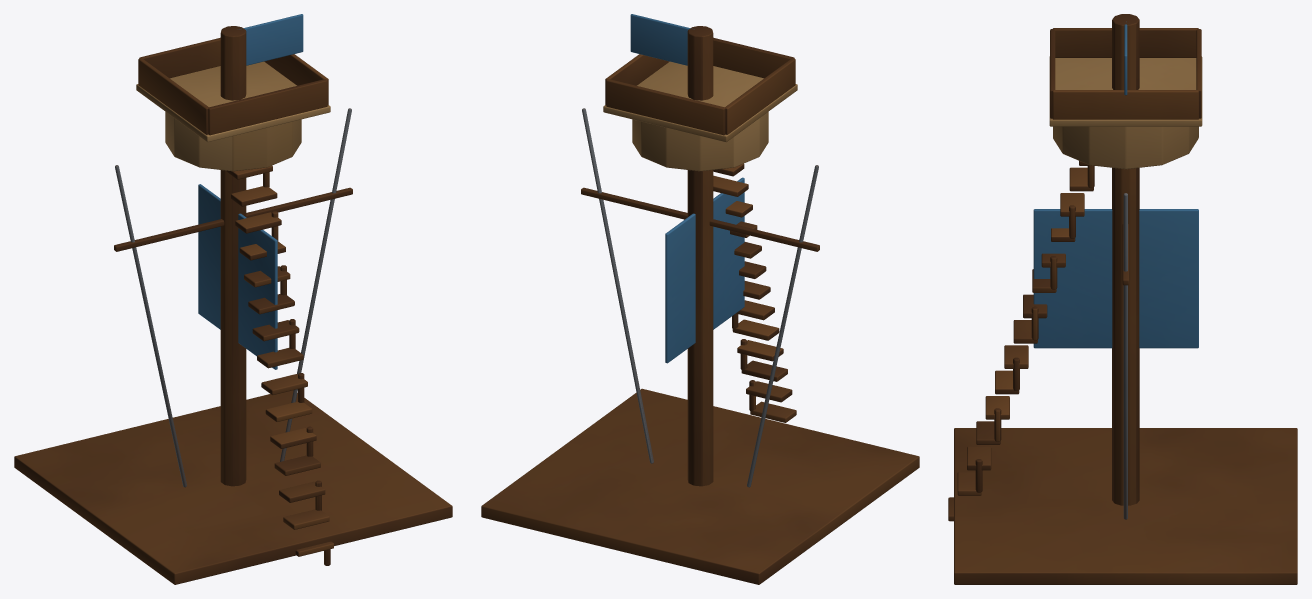
Rendered from building_freetown_crows_nest.fbx.
3 views of the same model, side by side, from view 1: azimuth 30°, elevation 25°; view 2: azimuth 150°, elevation 25°; view 3: azimuth 270°, elevation 25° (orthographic). The views are drawn at different scales.
Parts seen in each view (by area): view 1: building_freetown_crows_nest; view 2: building_freetown_crows_nest; view 3: building_freetown_crows_nest.
Part boxes in pixels (left/top/right/bottom): building_freetown_crows_nest: left=14, top=14, right=452, bottom=584; building_freetown_crows_nest: left=481, top=14, right=919, bottom=584; building_freetown_crows_nest: left=948, top=14, right=1297, bottom=584.
Size of the model in its own units: 5.4 by 8.93 by 5.49.
